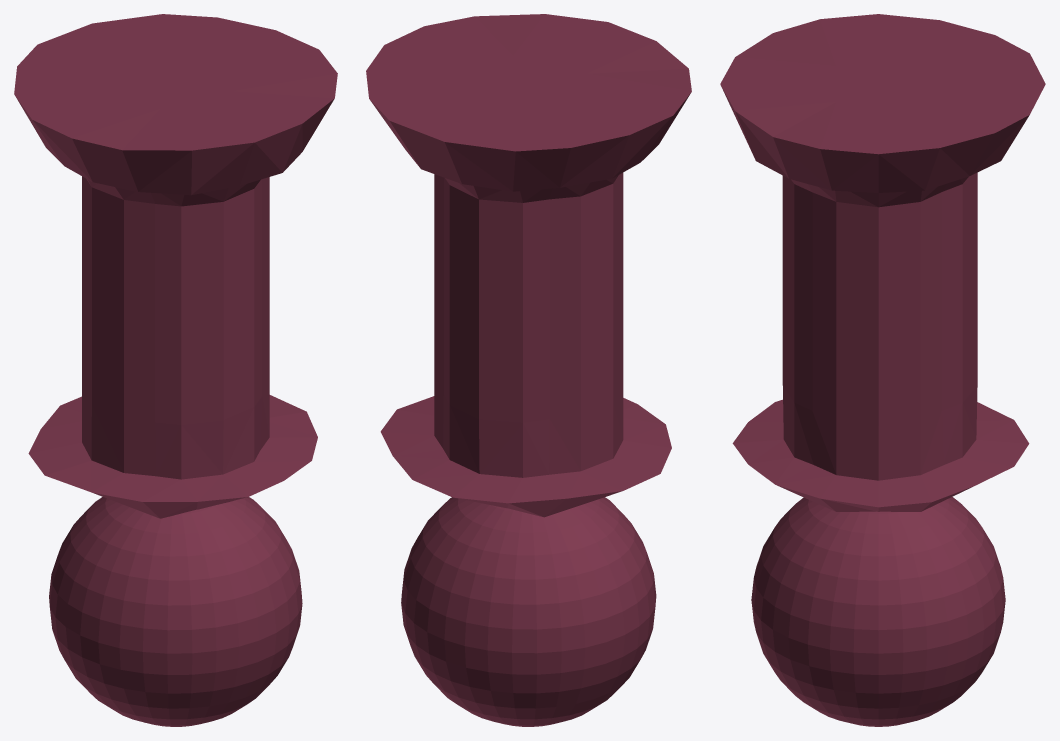
The model's file is Enemy.obj.
3 renders of one model, left to right at view 1: azimuth 30°, elevation 25°; view 2: azimuth 150°, elevation 25°; view 3: azimuth 270°, elevation 25°, orthographic.
Parts seen in each view (by area): view 1: 立方体; view 2: 立方体; view 3: 立方体.
Boxes of the visible parts, <box> form: 立方体: <box>14,14,337,726</box>; 立方体: <box>366,14,691,726</box>; 立方体: <box>720,14,1045,726</box>.
Bounding box in the file's own units: 0.6154 × 1.29 × 0.6039.
Materials: 1 (1 with a texture image).
